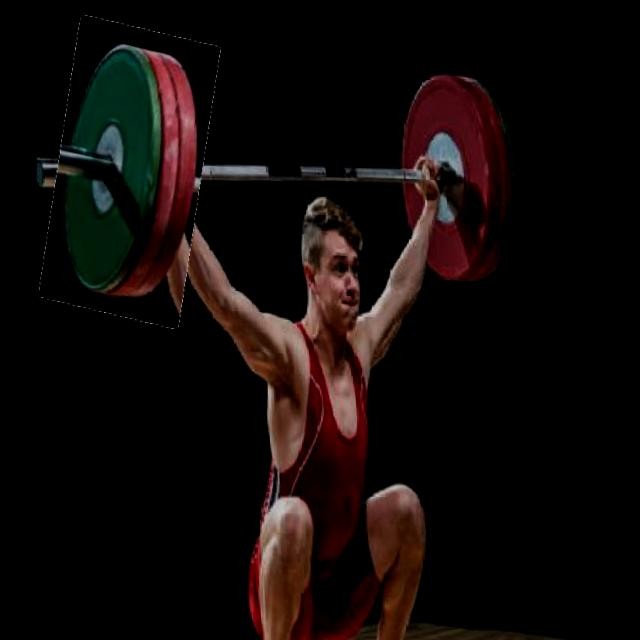barbell: (40, 19, 218, 325)
